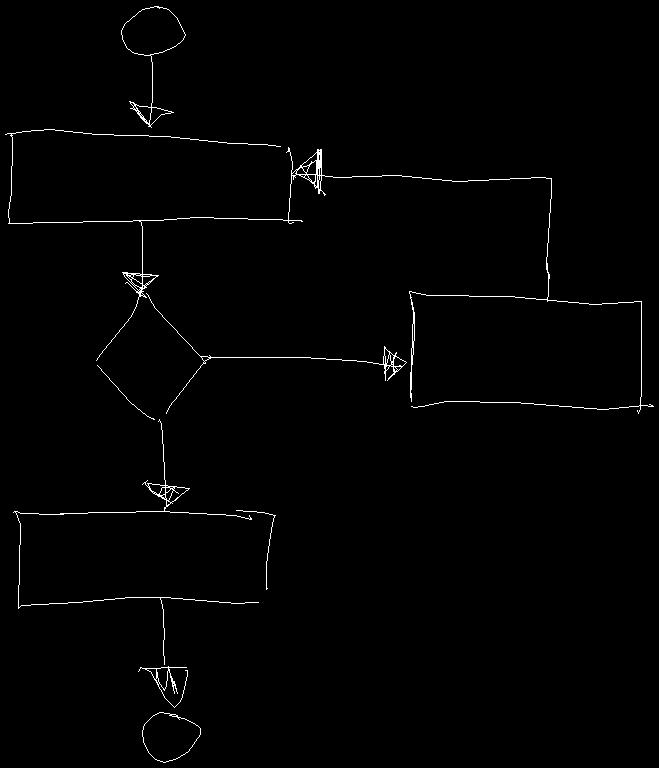arrow: (291, 149, 551, 301), (200, 346, 406, 380), (138, 597, 187, 707), (142, 419, 189, 511), (129, 55, 173, 127), (122, 220, 158, 297)
connection: (121, 6, 185, 55), (142, 712, 200, 762)
decision: (96, 292, 211, 419)
process: (409, 291, 653, 413), (5, 129, 302, 223), (13, 510, 275, 608)
